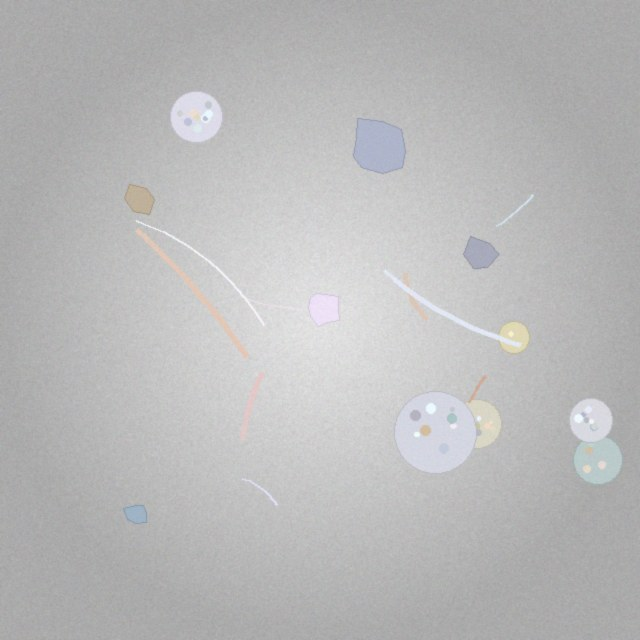fiber: (130, 223, 253, 362), (134, 218, 266, 327), (379, 266, 525, 350), (237, 367, 267, 445), (400, 268, 432, 324), (494, 192, 536, 230), (324, 480, 422, 493), (241, 296, 319, 312), (240, 476, 279, 507), (467, 373, 489, 406)
foam: (394, 391, 476, 473), (170, 91, 222, 143), (452, 399, 502, 449), (573, 436, 622, 484), (569, 399, 613, 443)
fragment: (353, 118, 405, 173), (463, 237, 500, 269), (309, 293, 340, 327), (125, 185, 154, 214), (123, 506, 147, 523)
pellet: (498, 322, 530, 353)
